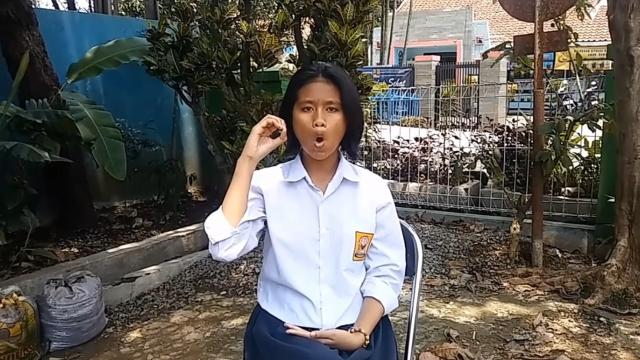O: (240, 116, 290, 160)
